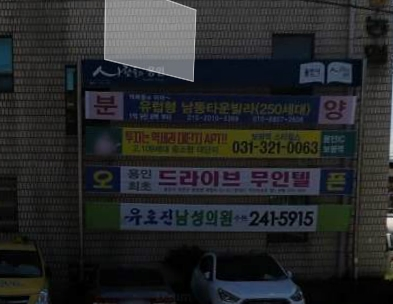banner: (74, 160, 361, 200), (81, 87, 367, 127), (76, 197, 361, 237), (76, 124, 357, 159)
